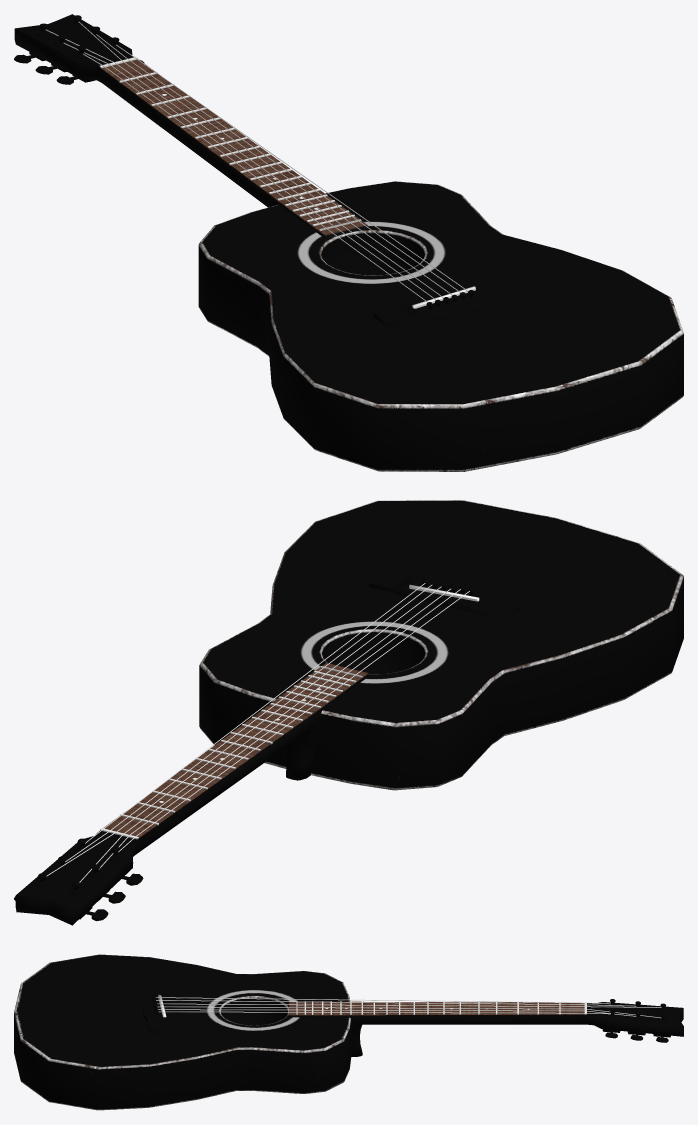
The model's file is Guitarra.fbx.
The picture shows the model from 3 angles, top to bottom: view 1: azimuth 30°, elevation 25°; view 2: azimuth 150°, elevation 25°; view 3: azimuth 270°, elevation 25°; orthographic projection. The views are drawn at different scales.
Visible parts, largest first — view 1: Guitarra; view 2: Guitarra; view 3: Guitarra.
Part boxes in pixels (x1=…): Guitarra: x1=14, y1=14, x2=683, y2=471; Guitarra: x1=14, y1=500, x2=683, y2=925; Guitarra: x1=14, y1=954, x2=683, y2=1110.
Bounding box in the file's own units: 365 × 76.91 × 909.
